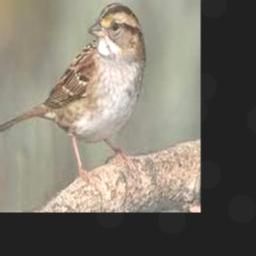Sparrow: (0, 3, 145, 185)
